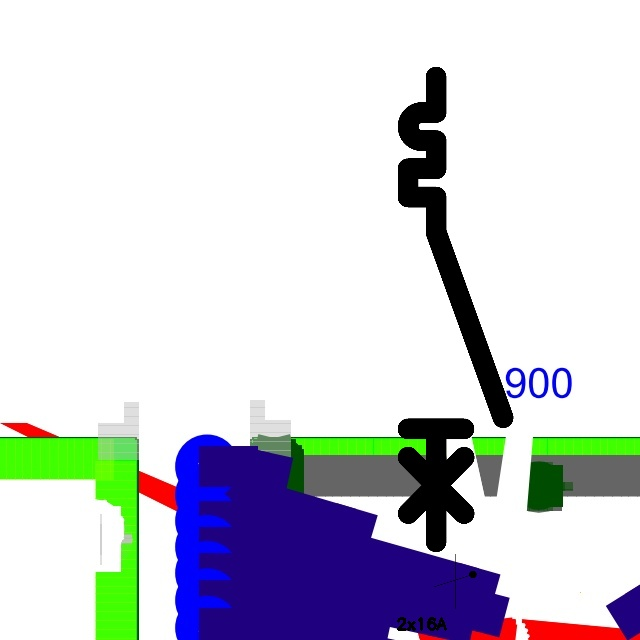interruptor_termomagnetico: (396, 65, 515, 553)
